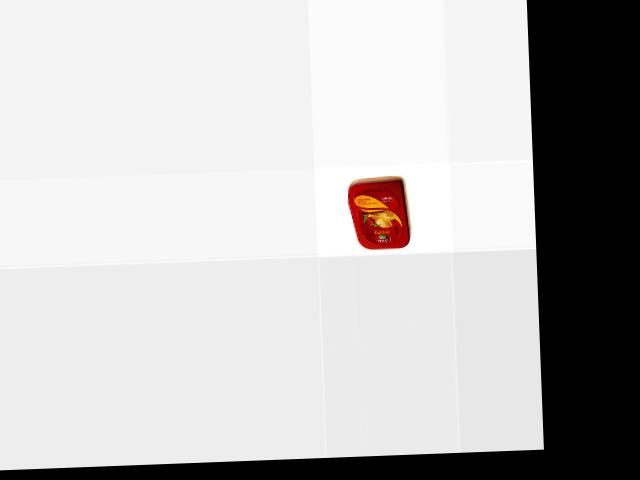cheese: (347, 176, 412, 254)
